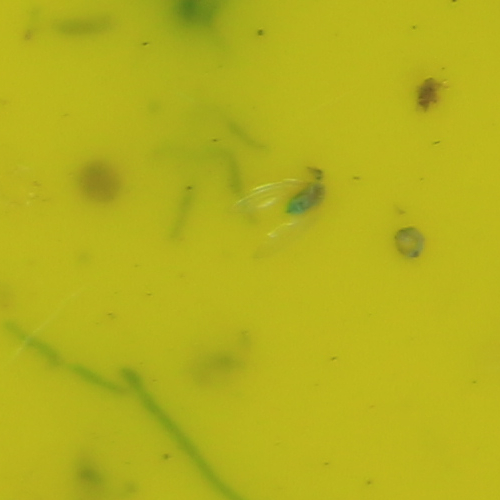Glycaspis: (277, 182, 332, 215)
